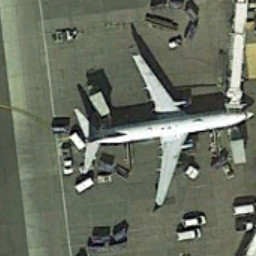Airplane: (55, 49, 255, 209)
